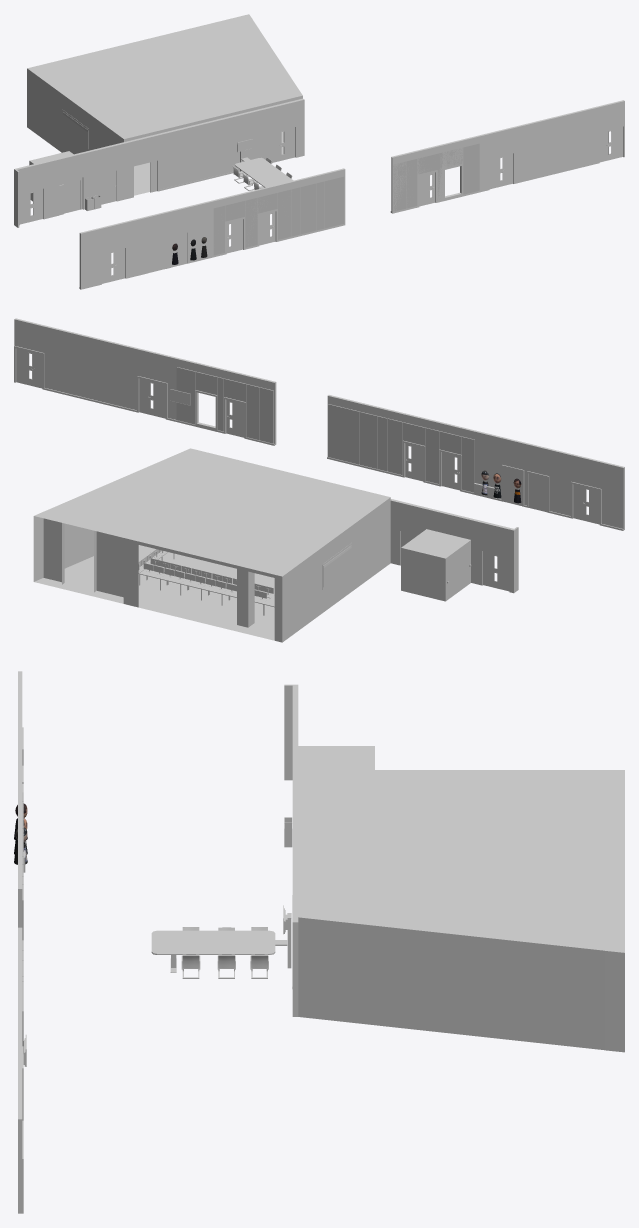
The model's file is lou_mii.fbx.
3 renders of one model, top to bottom at view 1: azimuth 30°, elevation 25°; view 2: azimuth 150°, elevation 25°; view 3: azimuth 270°, elevation 25°, orthographic. The views are drawn at different scales.
Parts seen in each view (by area): view 1: Classroom, wall, wall.003, wall3, woodwall.001, woodwall, Cube, monitor.003, door, 3D_Door, door.001, soliddoor (+8 smaller); view 2: Classroom, wall.003, wall3, woodwall.001, wall, lift, woodwall, classpillar, classtable.004, monitor.003, door, door.007 (+7 smaller); view 3: Classroom, Cube, wall, lift, wall3, wall.003.
Part boxes in pixels (x1,y1,x2,y2): Classroom: (27,14,302,195); wall: (14,98,304,227); wall.003: (391,100,624,212); wall3: (79,168,345,288); woodwall.001: (213,176,344,255); woodwall: (393,143,479,211); Cube: (235,157,293,187); monitor.003: (62,109,89,150); door: (148,238,165,272); 3D_Door: (108,248,125,282); door.001: (278,127,295,161); soliddoor: (100,170,116,204); Classroom: (33,448,390,642); wall.003: (14,318,276,443); wall3: (327,395,624,528); woodwall.001: (328,404,474,492); wall: (390,499,518,593); lift: (401,529,470,601); woodwall: (176,367,273,443); classpillar: (237,554,254,627); classtable.004: (139,569,269,605); monitor.003: (322,543,352,589); door: (528,473,547,512); door.007: (16,348,35,386); Classroom: (298,770,624,1052); Cube: (151,930,287,972); wall: (284,684,298,1016); lift: (298,746,374,769); wall3: (18,671,22,927); wall.003: (18,927,22,1158).
Size of the model in its own units: 3860 by 402 by 2225.
